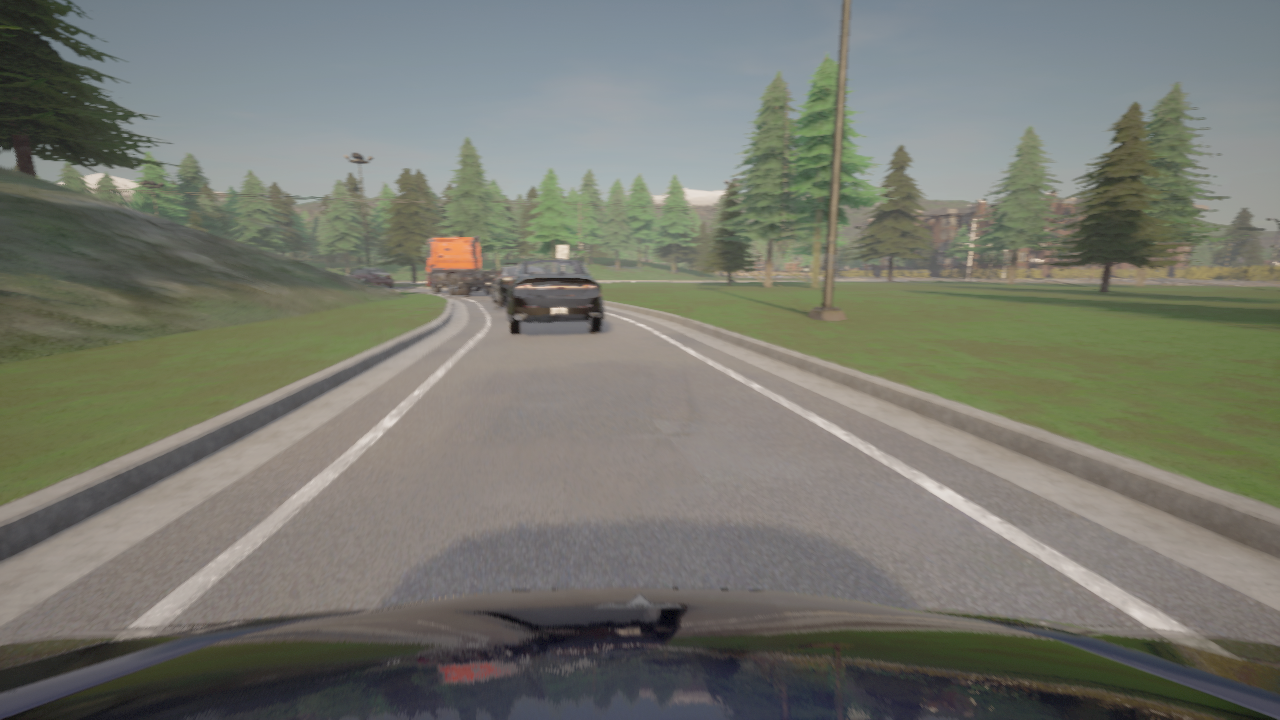cyclist: (0, 588, 1279, 719), (502, 259, 603, 335), (422, 237, 497, 296), (490, 262, 519, 307), (345, 267, 394, 288)
